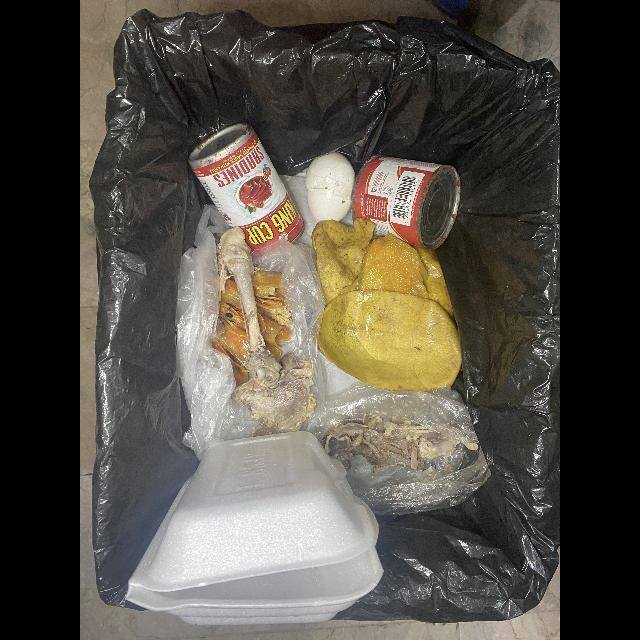aluminum: (188, 123, 305, 253), (351, 157, 463, 253)
left_over_food: (212, 228, 317, 436), (325, 415, 478, 473)
plastic_bag: (177, 208, 324, 457), (304, 381, 490, 517)
